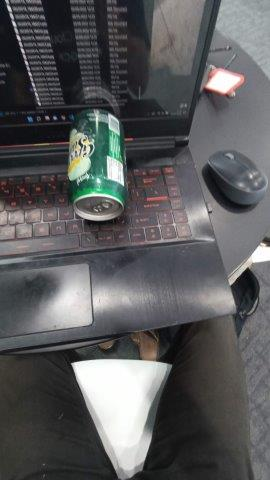kaleng: (69, 109, 125, 221)
